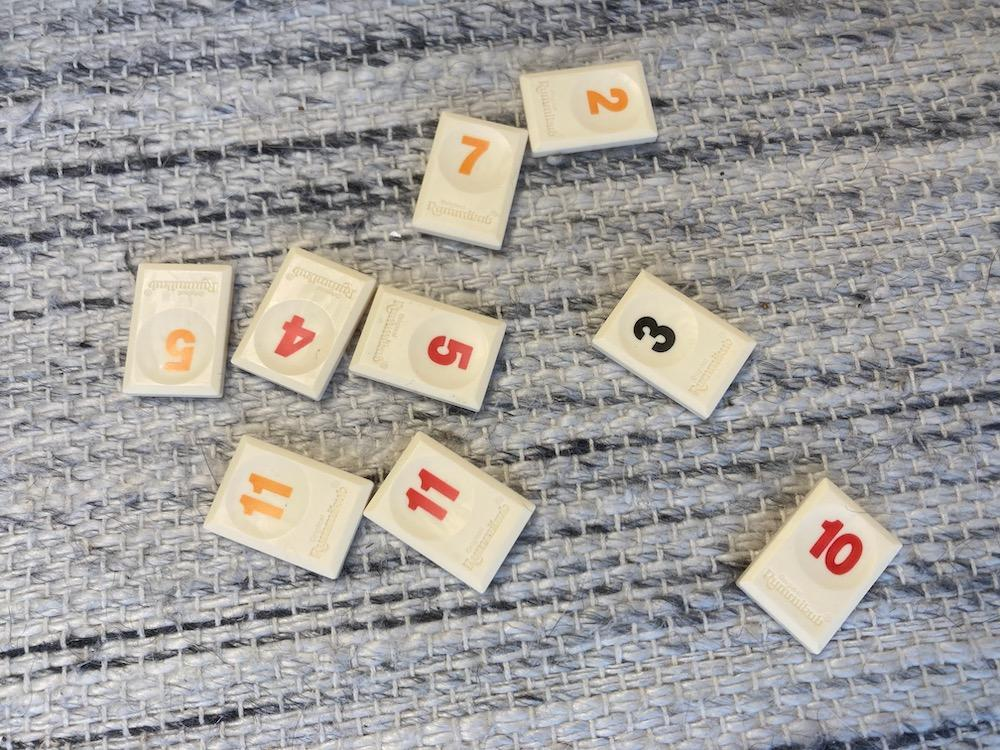black_3: (596, 270, 756, 418)
orange_11: (205, 436, 373, 578)
orange_2: (520, 61, 658, 156)
orange_5: (123, 264, 232, 396)
orange_7: (412, 111, 527, 250)
red_10: (738, 479, 900, 654)
red_11: (365, 432, 535, 592)
red_4: (232, 248, 375, 400)
red_5: (350, 285, 506, 410)
